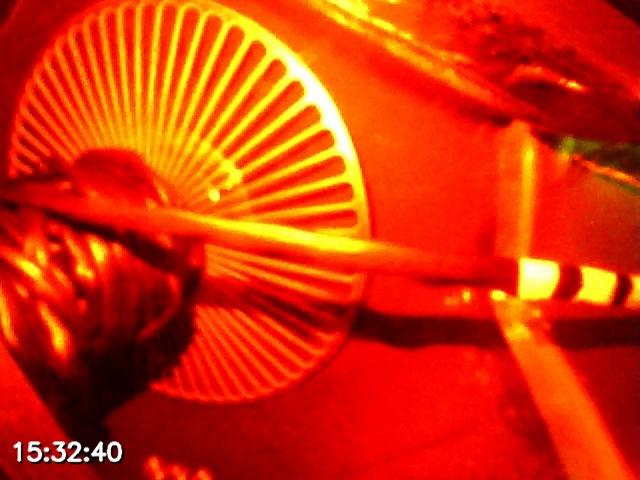white-dots: (518, 257, 640, 310)
